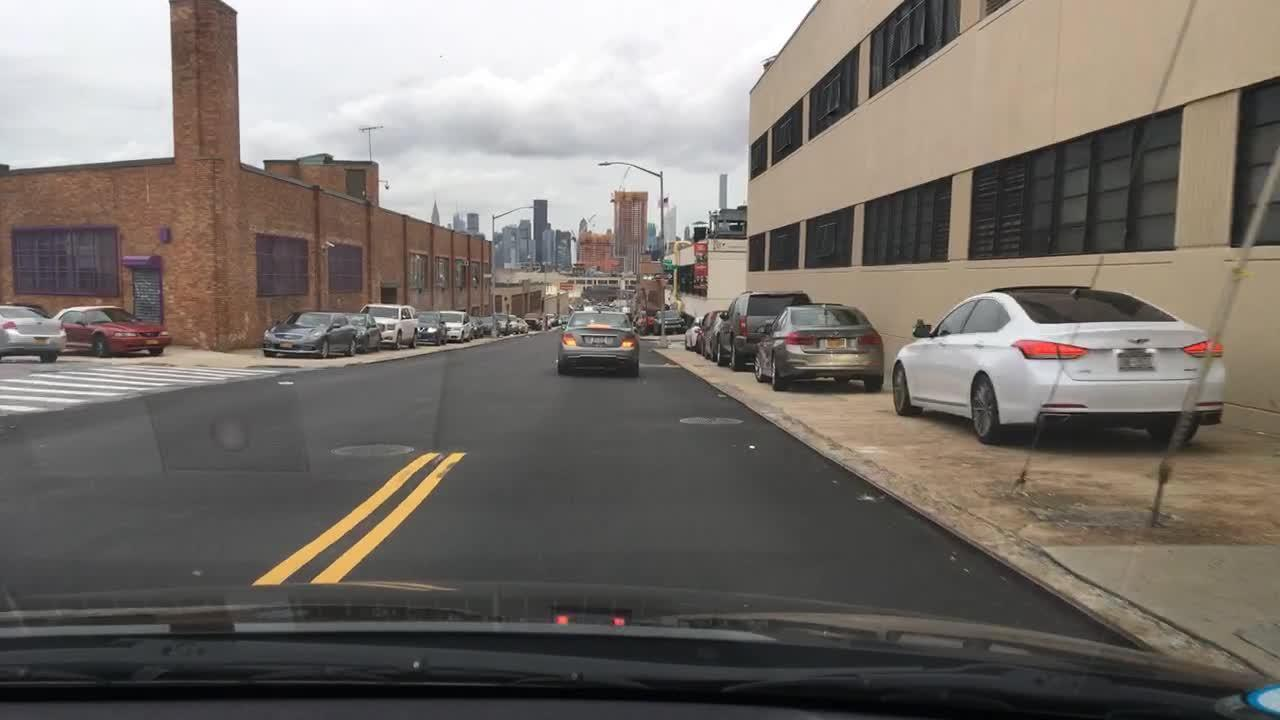bmw: (832, 328, 841, 337)
no class: (1126, 332, 1156, 348)
